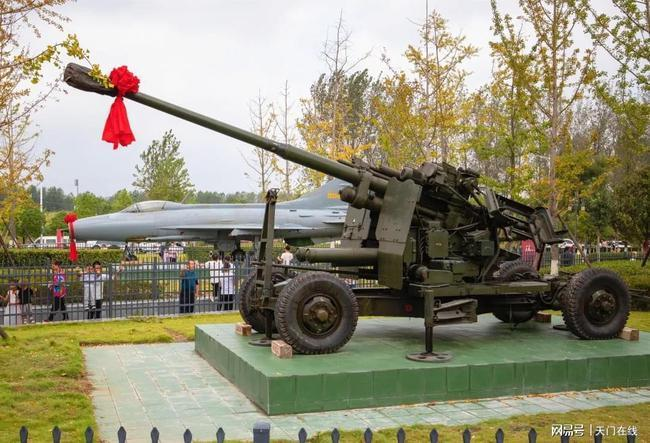MIL_SPG: (126, 93, 630, 362)
